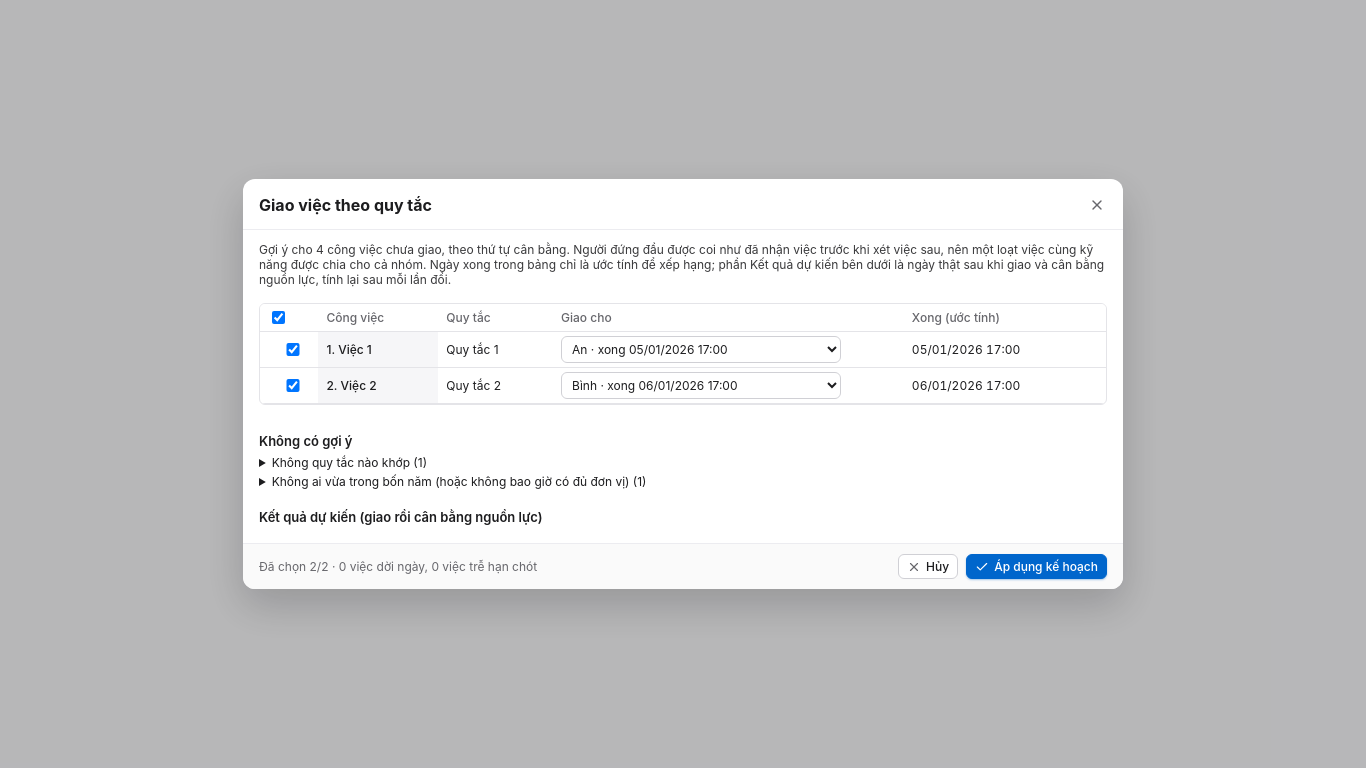
Test: AssignPreviewDialog › leaves out unticked rows and cannot apply a plan that changes nothing
Click the checkbox named "Áp dụng cho 2. Việc 2". click: x=293, y=386
box: [272,379,314,392]
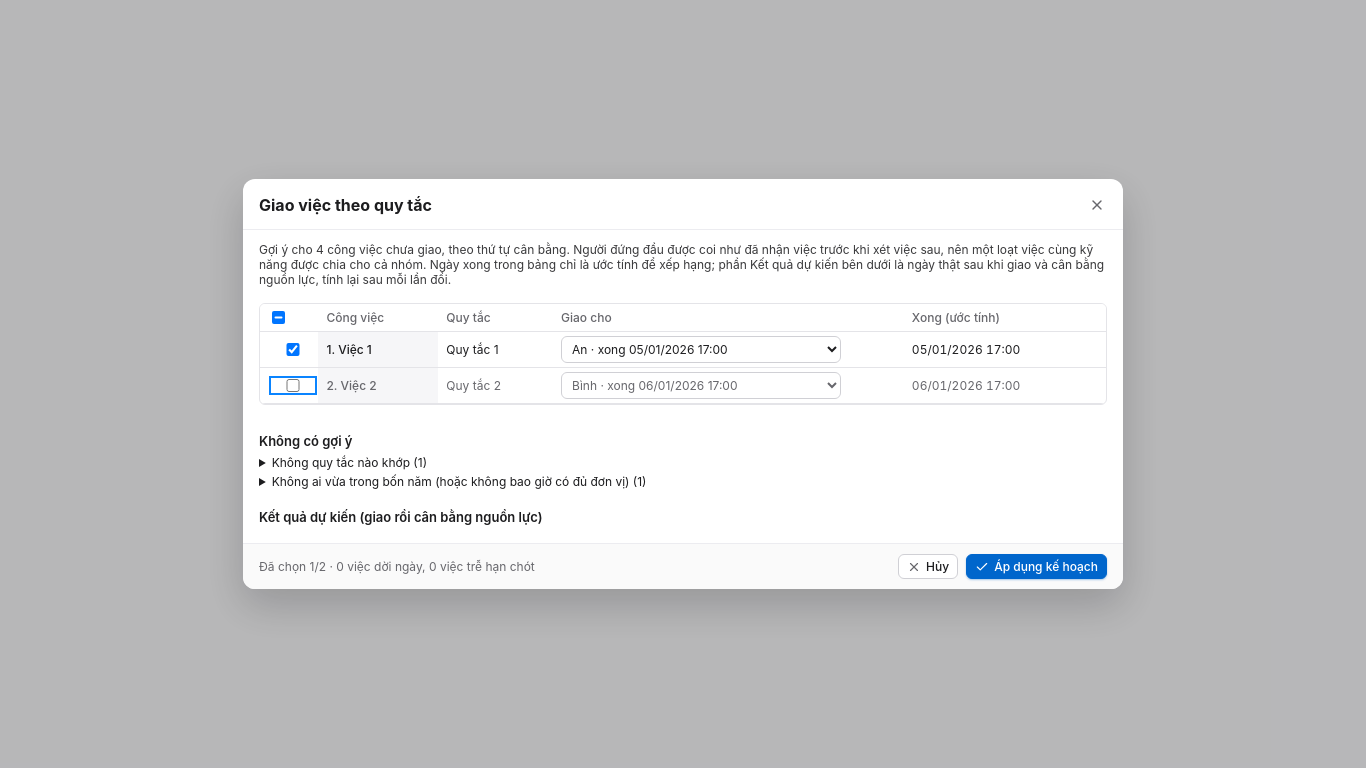
Expected: the button "Áp dụng kế hoạch" is enabled, [966,554,1107,579]
Click the checkbox named "Áp dụng cho mọi công việc". click: x=278, y=318
box: [272,311,285,324]
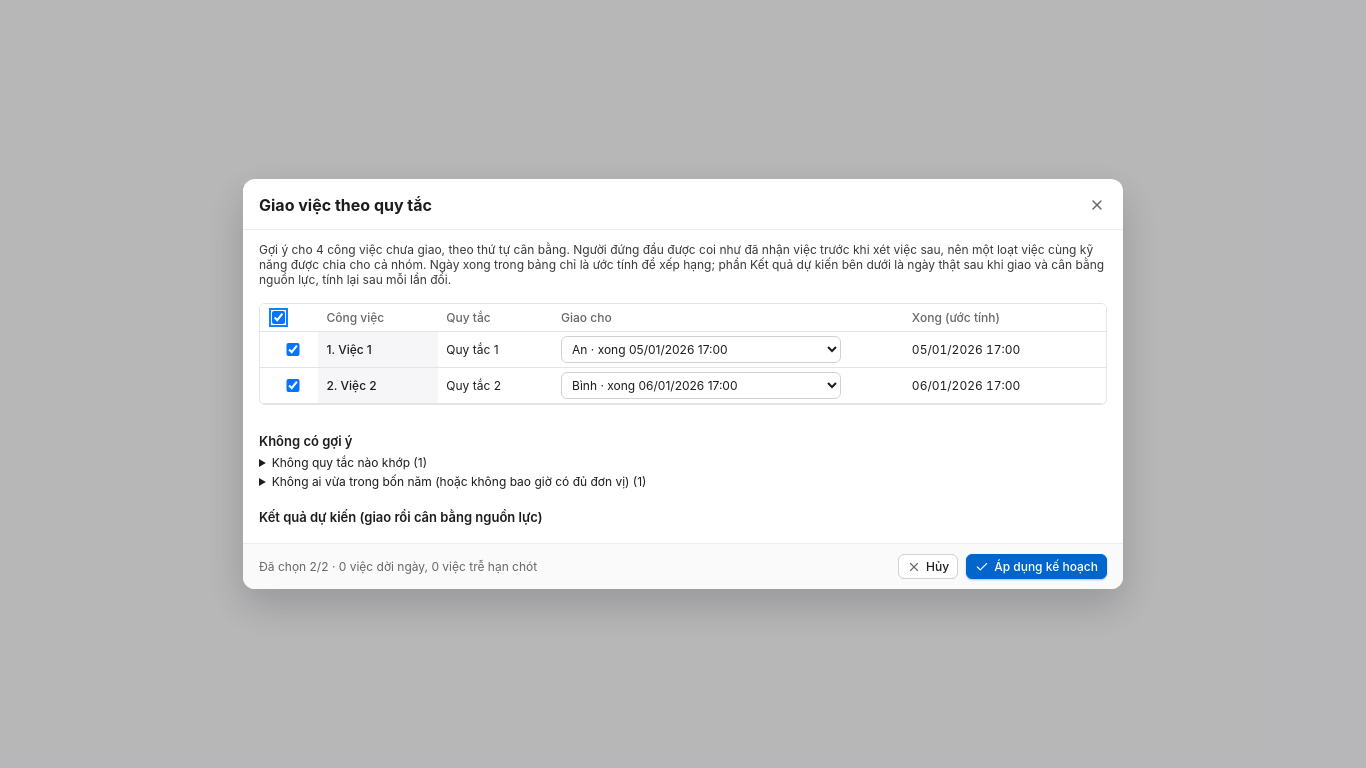
Click the checkbox named "Áp dụng cho mọi công việc". click: x=278, y=318
box: [272,311,285,324]
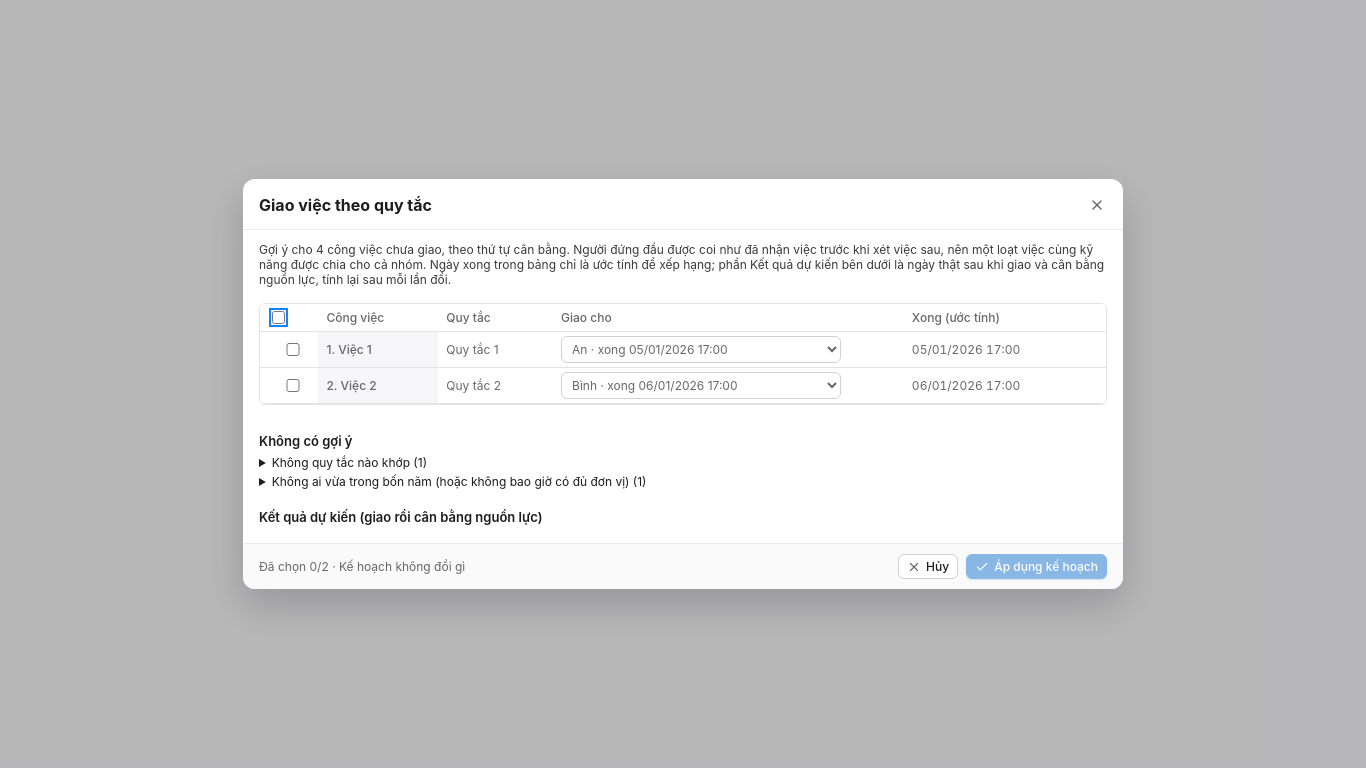
Result: the button "Áp dụng kế hoạch" is disabled at [966,554,1107,579]
